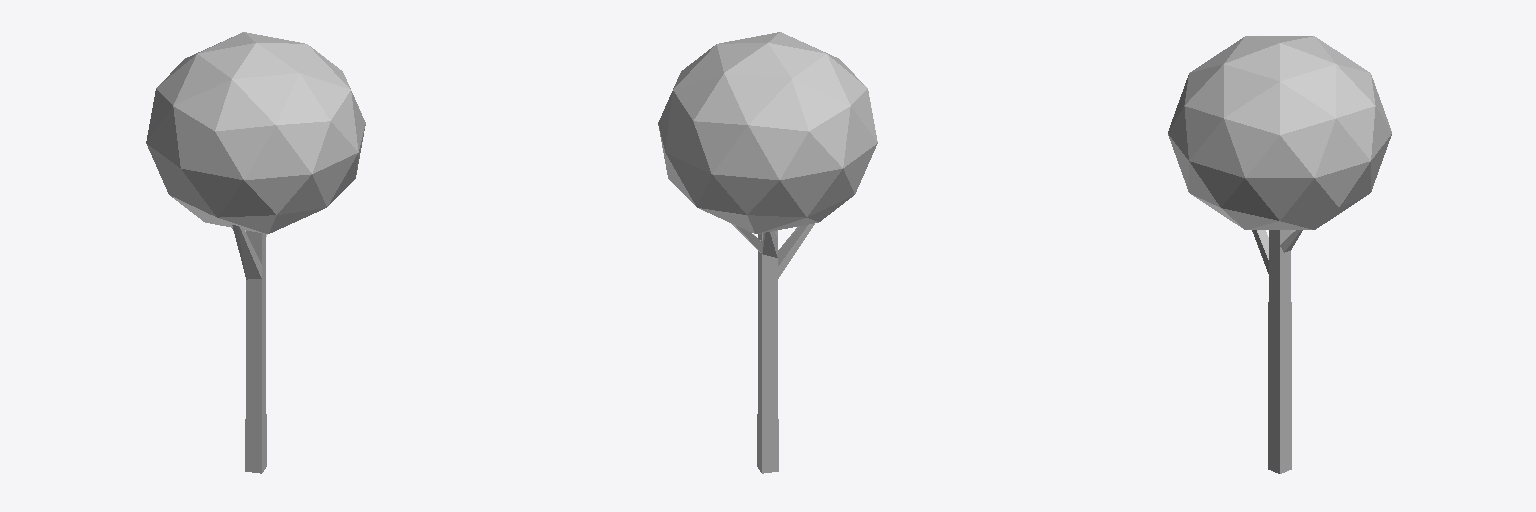
File: tree4.obj
3 views of the same model, side by side, from view 1: azimuth 30°, elevation 25°; view 2: azimuth 150°, elevation 25°; view 3: azimuth 270°, elevation 25° (orthographic).
Visible parts, largest first — view 1: tree_2_; view 2: tree_2_; view 3: tree_2_.
Part boxes in pixels (bbox=[...]): tree_2_: bbox=[146, 32, 365, 473]; tree_2_: bbox=[658, 32, 877, 473]; tree_2_: bbox=[1168, 36, 1391, 473].
Size of the model in its own units: 11.8 by 25.95 by 12.41.